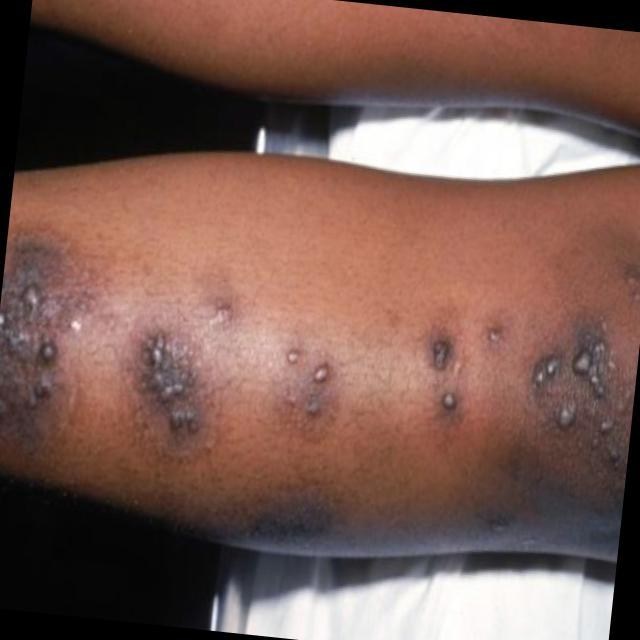Eczema: (490, 306, 640, 496), (0, 229, 80, 441), (135, 294, 233, 449), (279, 342, 352, 434), (428, 322, 477, 424)
